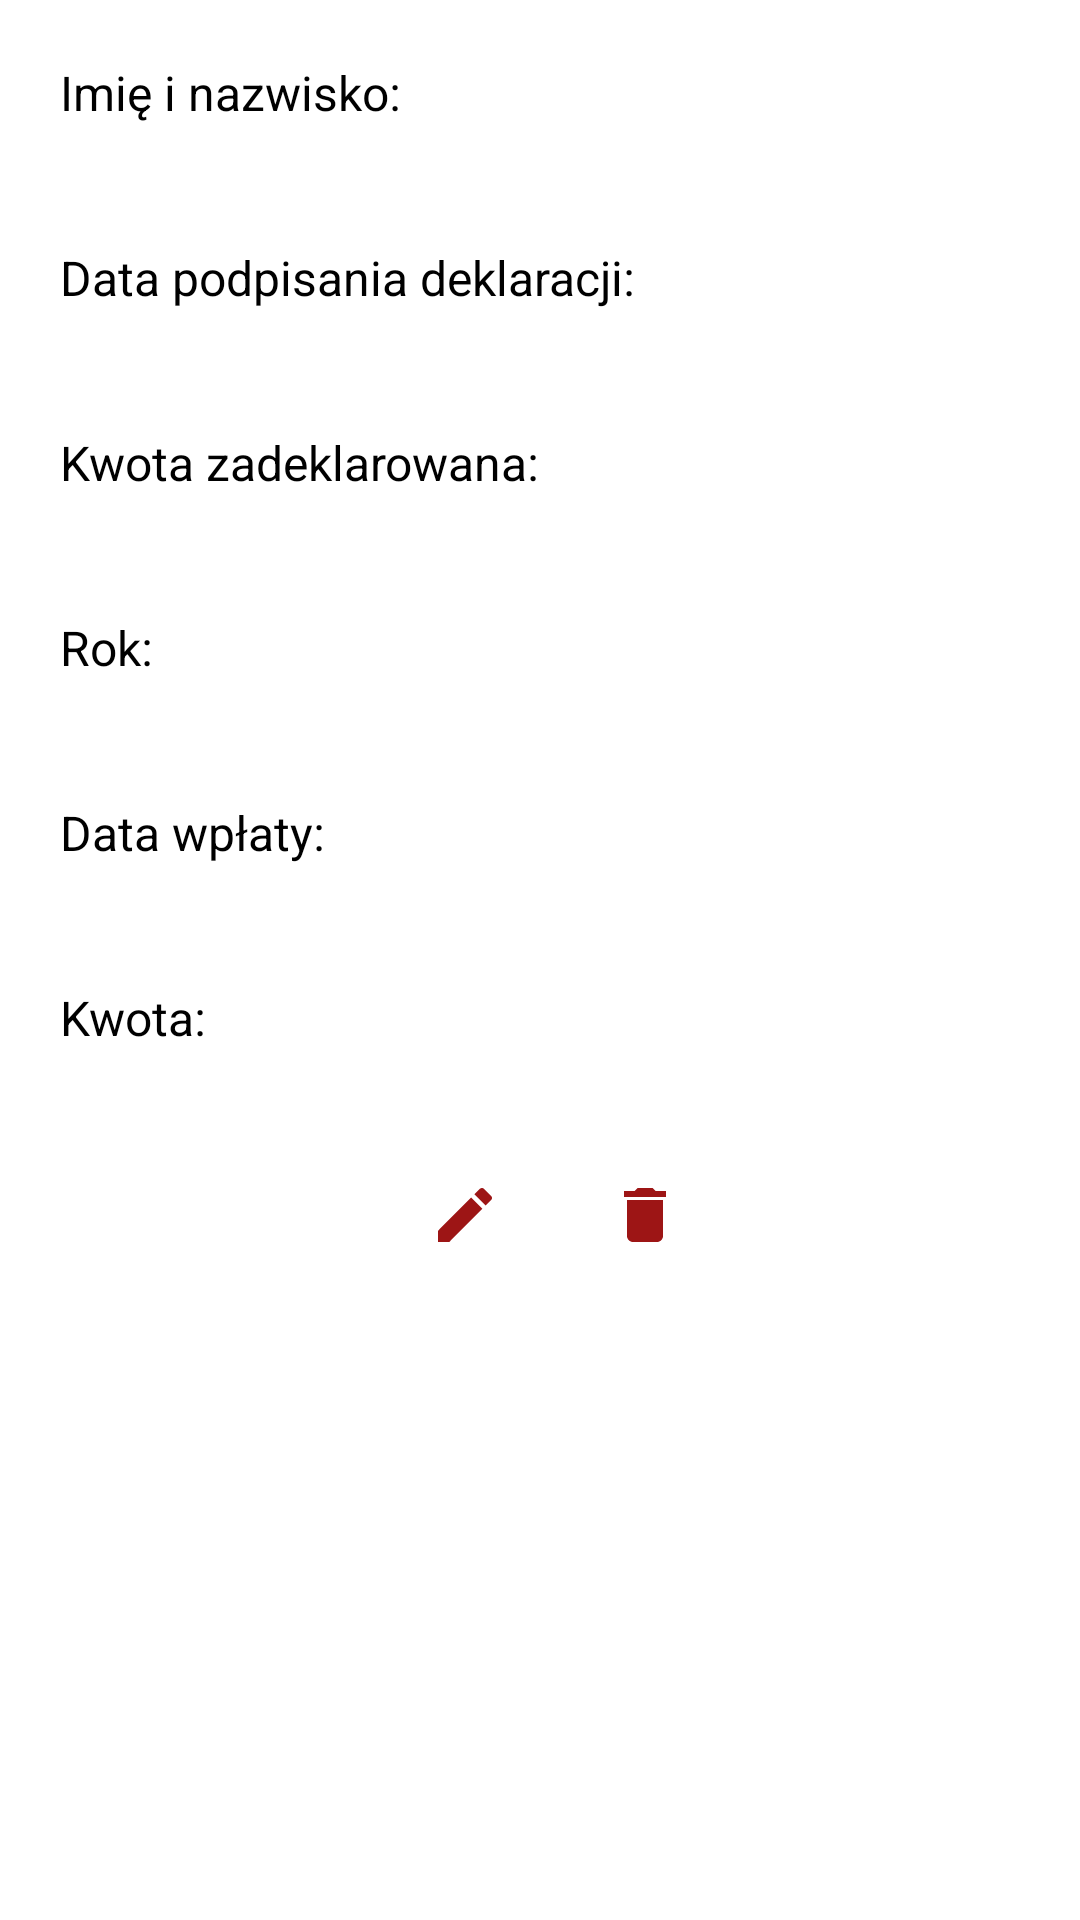

Icon click points for this 1080w x 1920h phone screenshot, format point (x, y):
delete: point (645, 1215)
edit: point (465, 1215)
